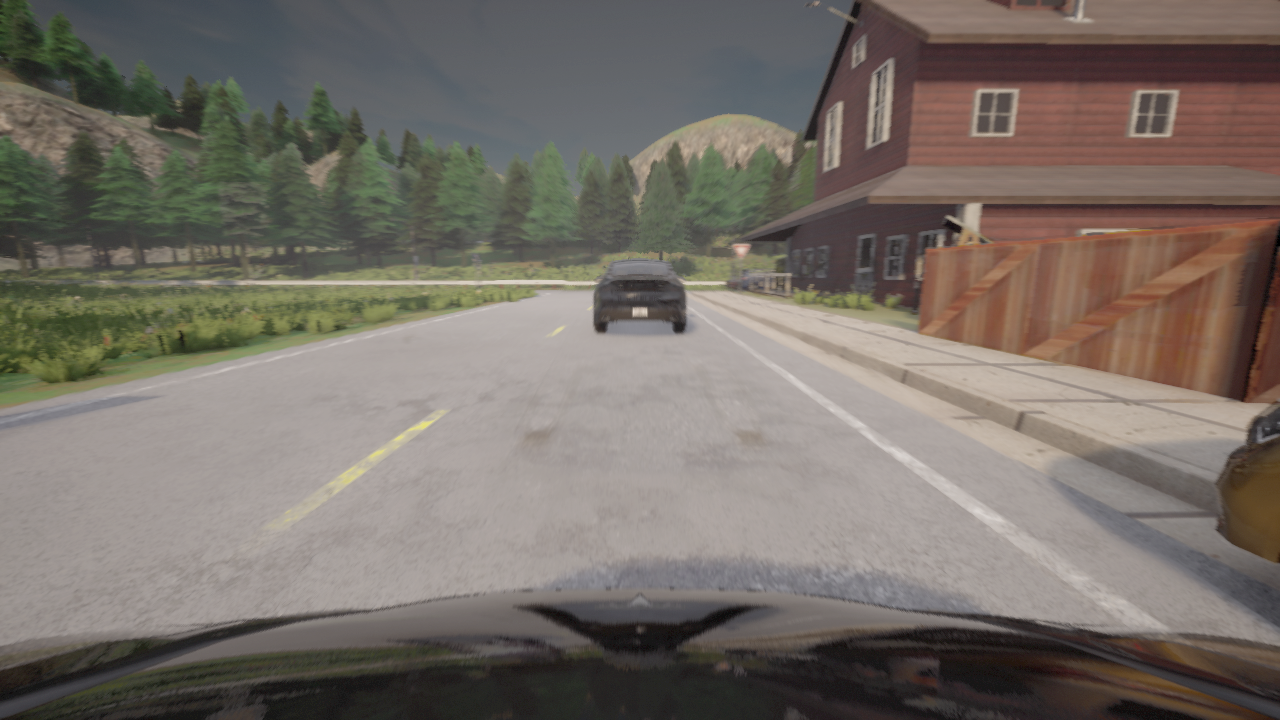cyclist: (0, 588, 1279, 719), (1214, 398, 1279, 564), (594, 259, 685, 332), (736, 269, 773, 291), (724, 279, 736, 289)
pedestrian: (768, 268, 775, 289)
